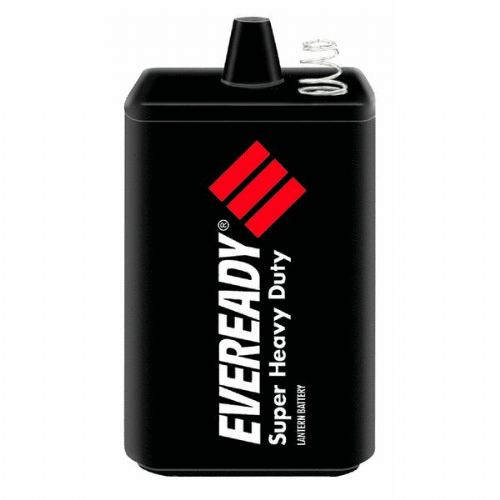6V: (114, 21, 385, 481)
